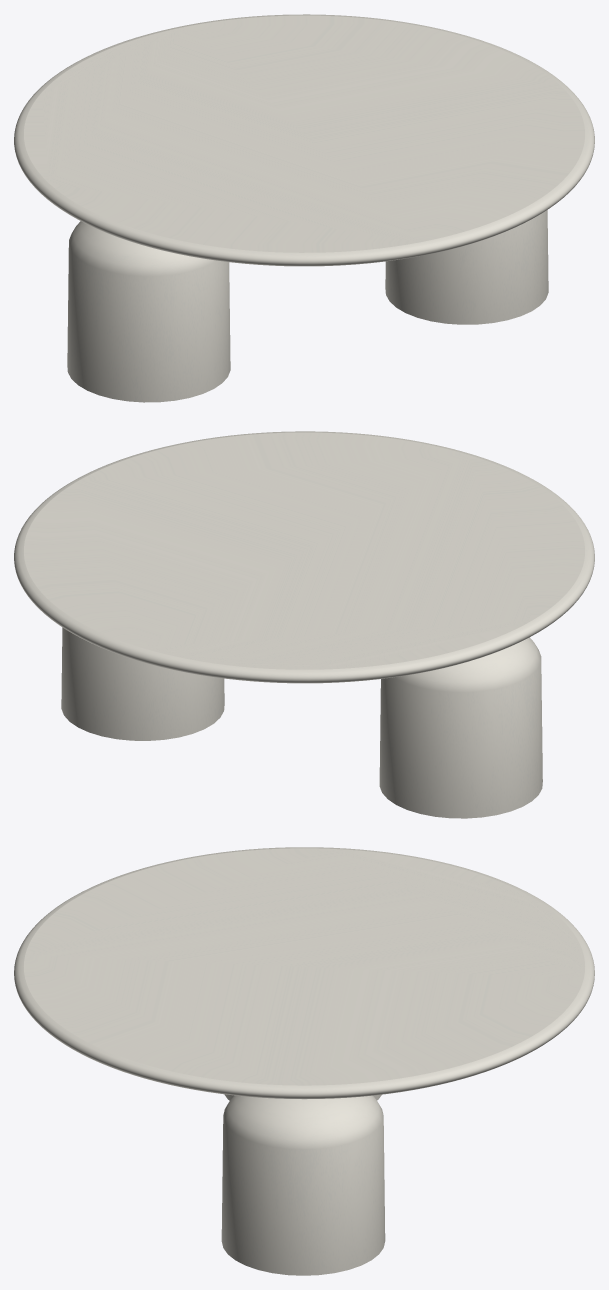
Rendered from pale_round_round_tornado.glb.
The picture shows the model from 3 angles, top to bottom: view 1: azimuth 30°, elevation 25°; view 2: azimuth 150°, elevation 25°; view 3: azimuth 270°, elevation 25°; orthographic projection.
Visible parts, largest first — view 1: round_round, tornado; view 2: round_round, tornado; view 3: round_round, tornado.
Part boxes in pixels (x1,y1,x2,y2): round_round: [14, 14, 594, 266]; tornado: [67, 210, 548, 402]; round_round: [14, 431, 594, 683]; tornado: [61, 627, 542, 818]; round_round: [14, 847, 594, 1099]; tornado: [221, 1094, 385, 1275].
Size of the model in its own units: 6.75 by 2.5 by 6.75.
Materials: 1 (1 with a texture image).
